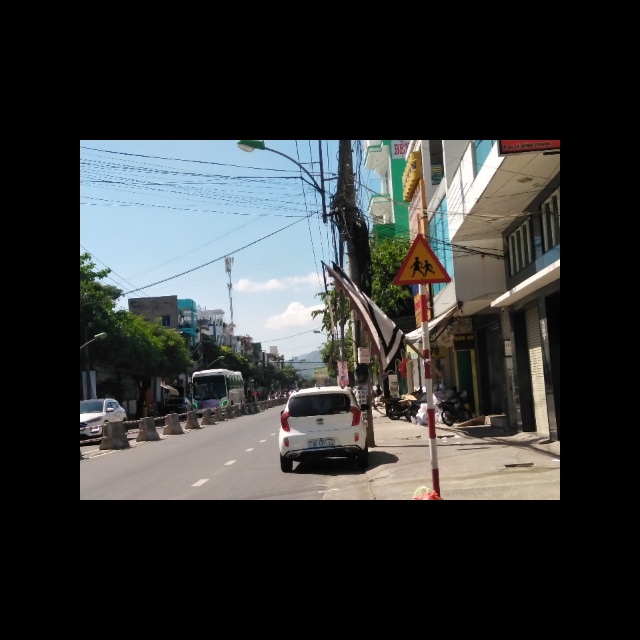Trẻ em ngang qua: (389, 235, 451, 285)
